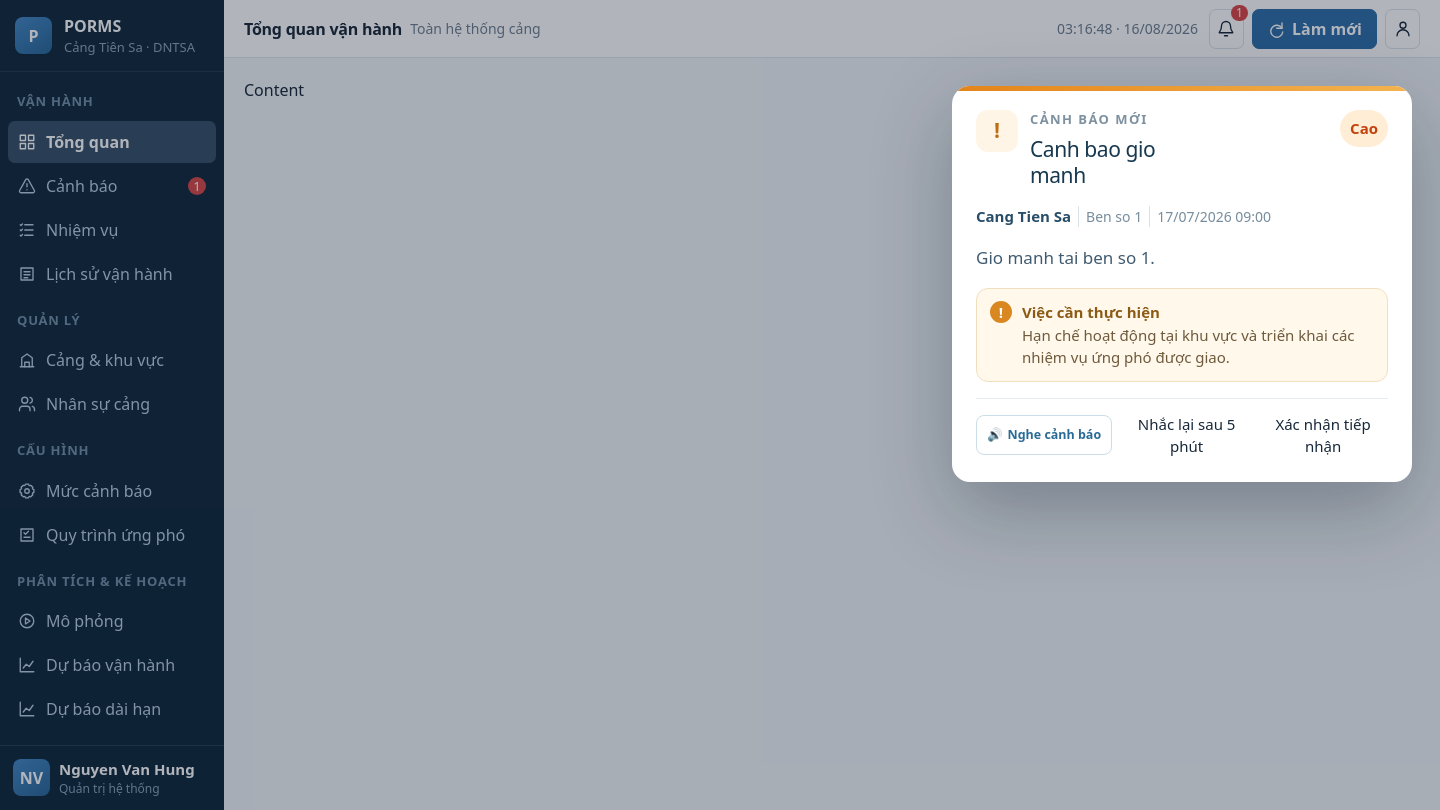
Scenario: AppShell › shows a popup and plays a sound for unread alerts
Expected: the dialog "CẢNH BÁO MỚI" is shown, [952,86,1412,482]
Expected: the heading "Canh bao gio manh" is shown, [1030,134,1155,189]
Click the button "Xác nhận tiếp nhận": click(1323, 435) [1258,413,1388,458]
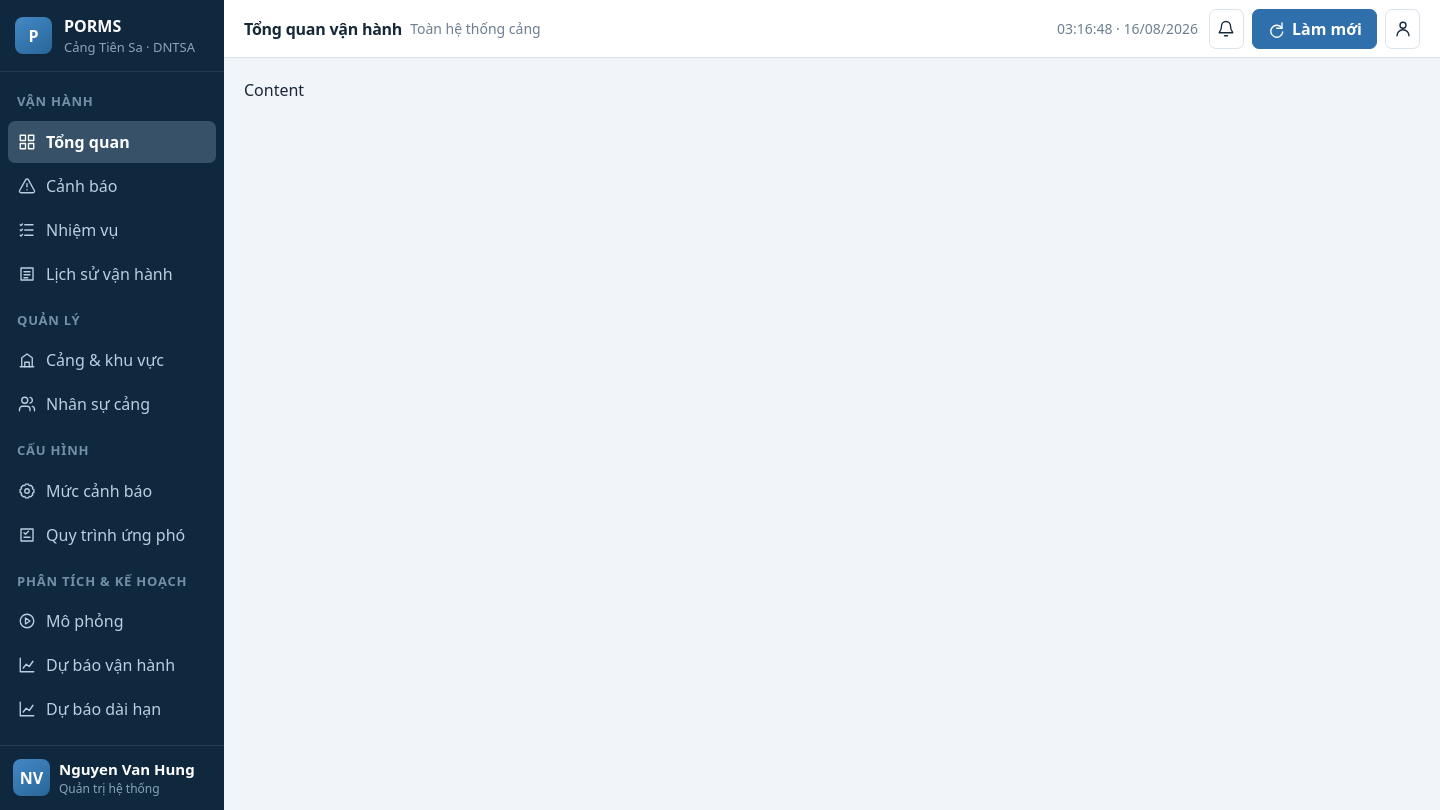
Now the text "CẢNH BÁO MỚI" is gone
